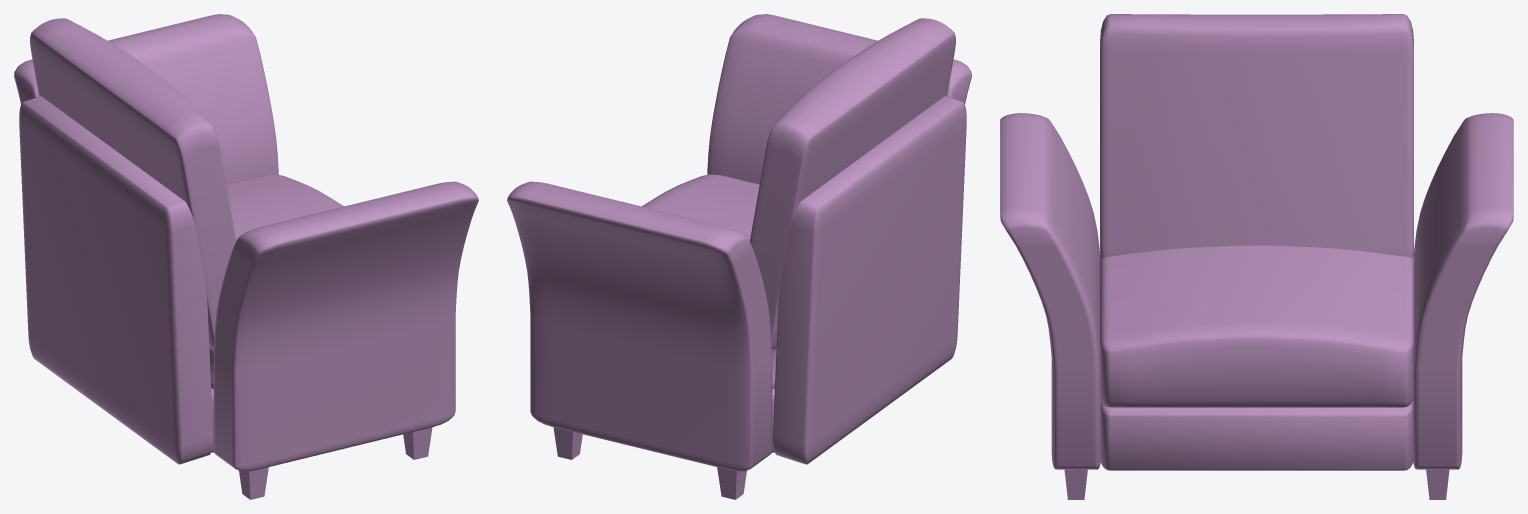
File: barbie silla.fbx
The picture shows the model from 3 angles, left to right: view 1: azimuth 30°, elevation 25°; view 2: azimuth 150°, elevation 25°; view 3: azimuth 270°, elevation 25°; orthographic projection. The views are drawn at different scales.
Visible parts, largest first — view 1: Roundcube.005; view 2: Roundcube.005; view 3: Roundcube.005.
Part boxes in pixels (x1=…): Roundcube.005: x1=14, y1=14, x2=478, y2=499; Roundcube.005: x1=507, y1=14, x2=971, y2=499; Roundcube.005: x1=1000, y1=14, x2=1513, y2=499.
Size of the model in its own units: 14.75 by 19.4 by 23.84.
